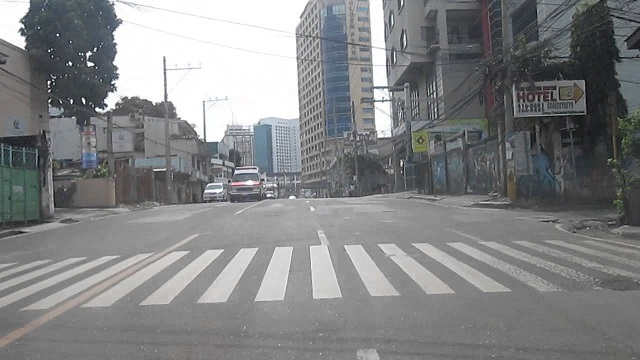car: (232, 163, 262, 200), (202, 183, 226, 203)
pedestrian lane: (2, 238, 640, 309)
pole: (500, 4, 517, 203), (161, 54, 176, 203)
tree: (24, 1, 122, 123)
